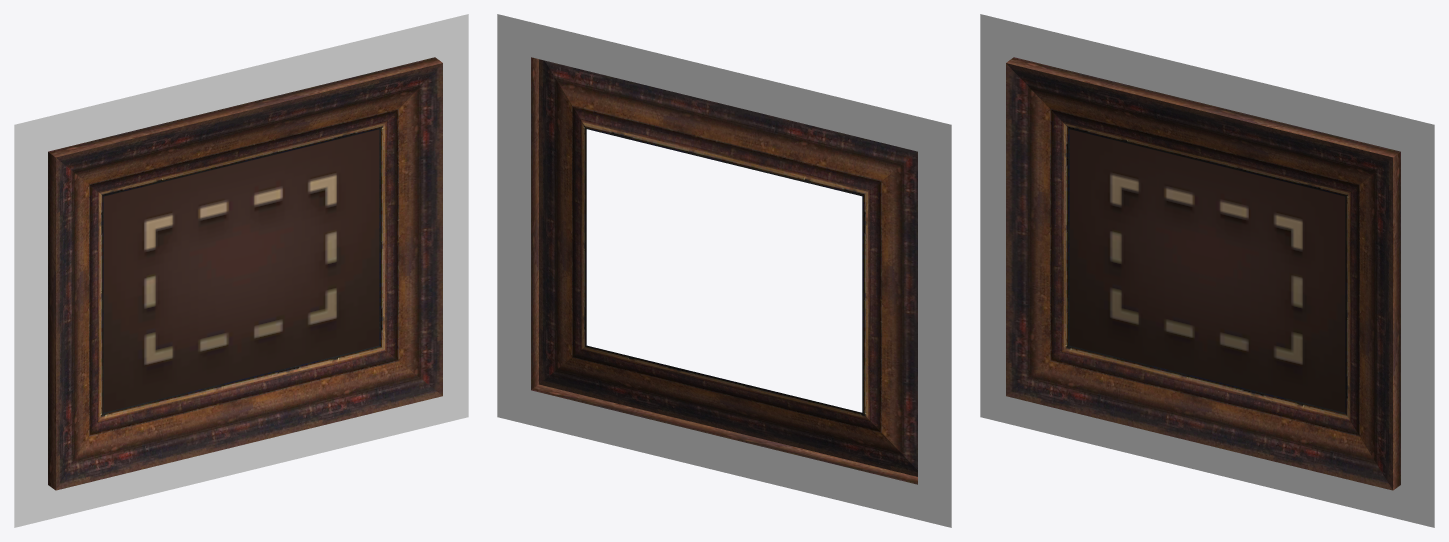
The model's file is Frame_08_Small.dae.
3 views of the same model, side by side, from view 1: azimuth 30°, elevation 25°; view 2: azimuth 150°, elevation 25°; view 3: azimuth 330°, elevation 25° (orthographic).
Parts seen in each view (by area): view 1: Frame_08_Small (×3); view 2: Frame_08_Small (×2); view 3: Frame_08_Small (×3).
Boxes of the visible parts, bbox=[...] form: Frame_08_Small (×3): bbox=[14, 14, 468, 527]; Frame_08_Small (×2): bbox=[497, 14, 951, 527]; Frame_08_Small (×3): bbox=[980, 14, 1434, 527].
Bounding box in the file's own units: 272 × 231 × 8.27.
Materials: 3 (3 with a texture image).
